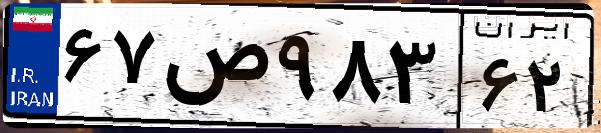2: (525, 38, 570, 115)
3: (385, 28, 445, 110)
6: (57, 26, 110, 100), (475, 38, 525, 113)
7: (110, 28, 158, 98)
8: (330, 28, 385, 110)
9: (270, 28, 330, 110)
ص: (158, 20, 270, 120)
